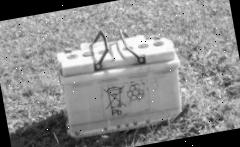electronic: (41, 8, 200, 147)
